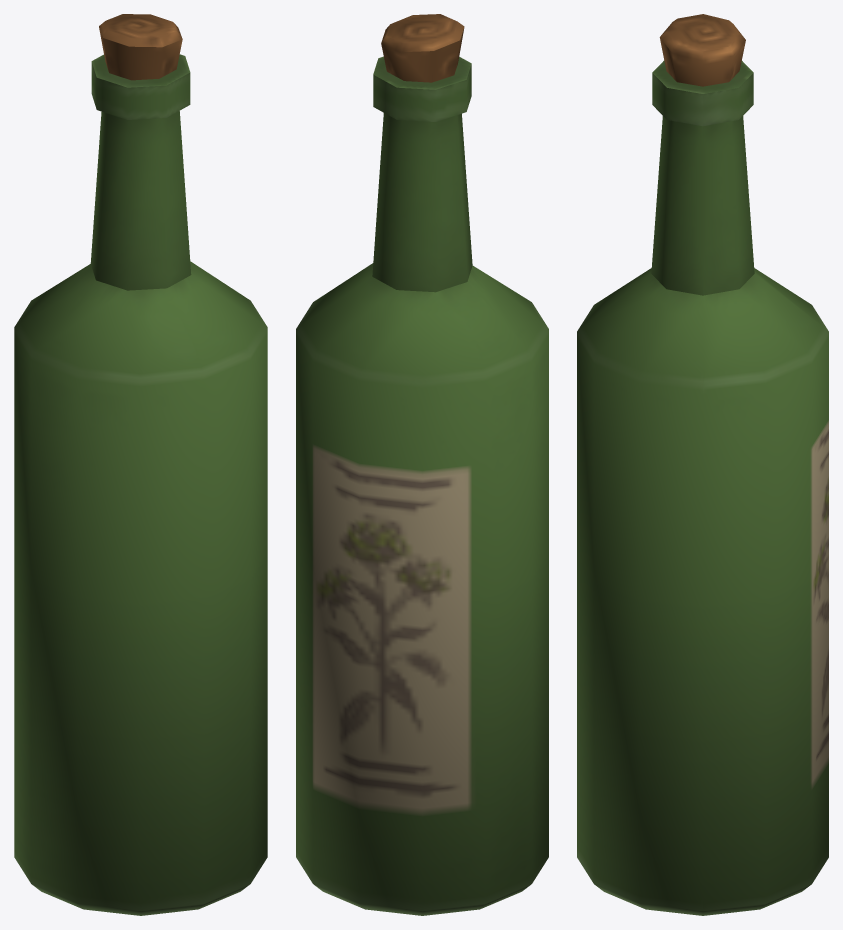
The picture shows the model from 3 angles, left to right: view 1: azimuth 30°, elevation 25°; view 2: azimuth 150°, elevation 25°; view 3: azimuth 270°, elevation 25°; orthographic projection.
Visible parts, largest first — view 1: submesh_0; view 2: submesh_0; view 3: submesh_0.
Part boxes in pixels (x1=…): submesh_0: x1=14, y1=14, x2=267, y2=915; submesh_0: x1=296, y1=14, x2=548, y2=915; submesh_0: x1=577, y1=14, x2=828, y2=915.
Size of the model in its own units: 0.1444 by 0.5306 by 0.1444.
Materials: 1 (1 with a texture image).
